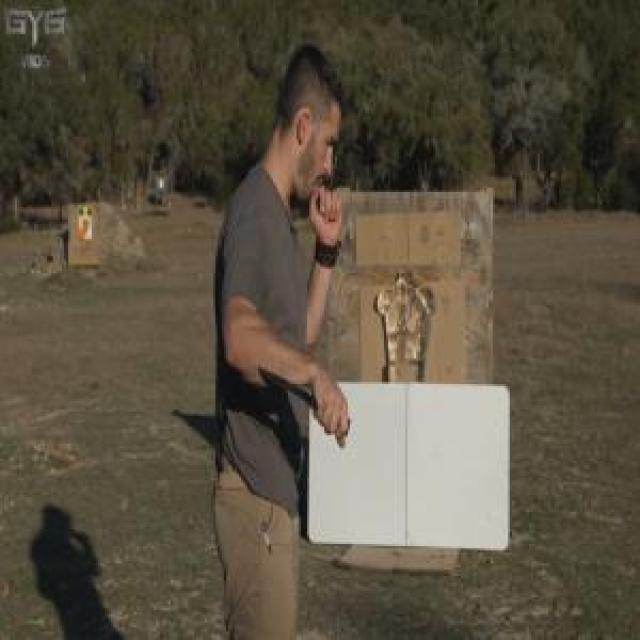knife: (254, 350, 357, 450)
